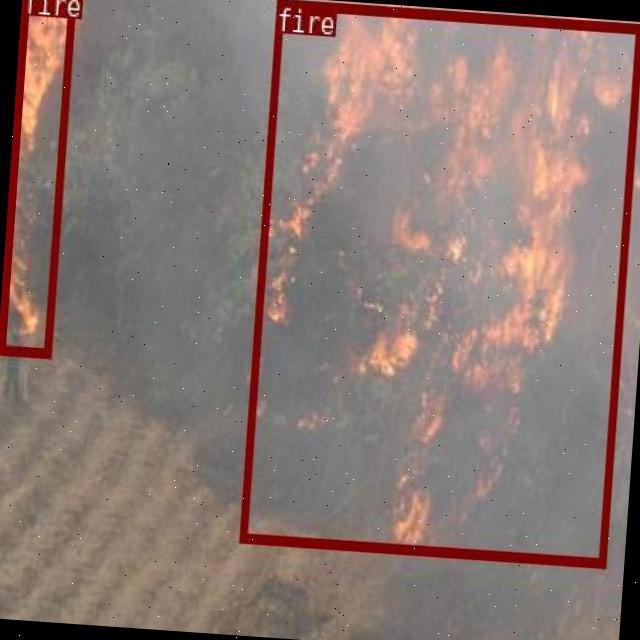fire: (237, 0, 640, 566), (0, 0, 74, 355)
